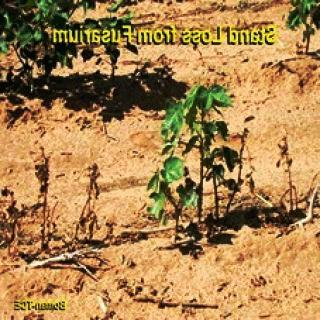wilt: (34, 188, 60, 258), (75, 167, 96, 240)
